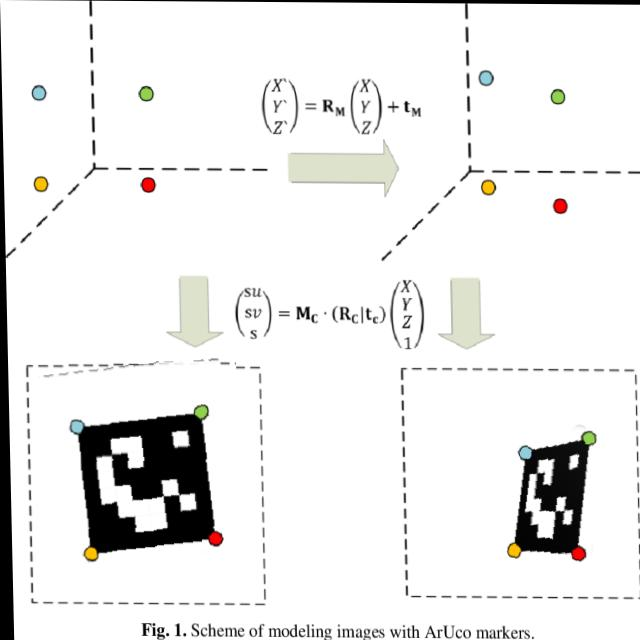aruco: (41, 360, 238, 576), (477, 412, 610, 587)
